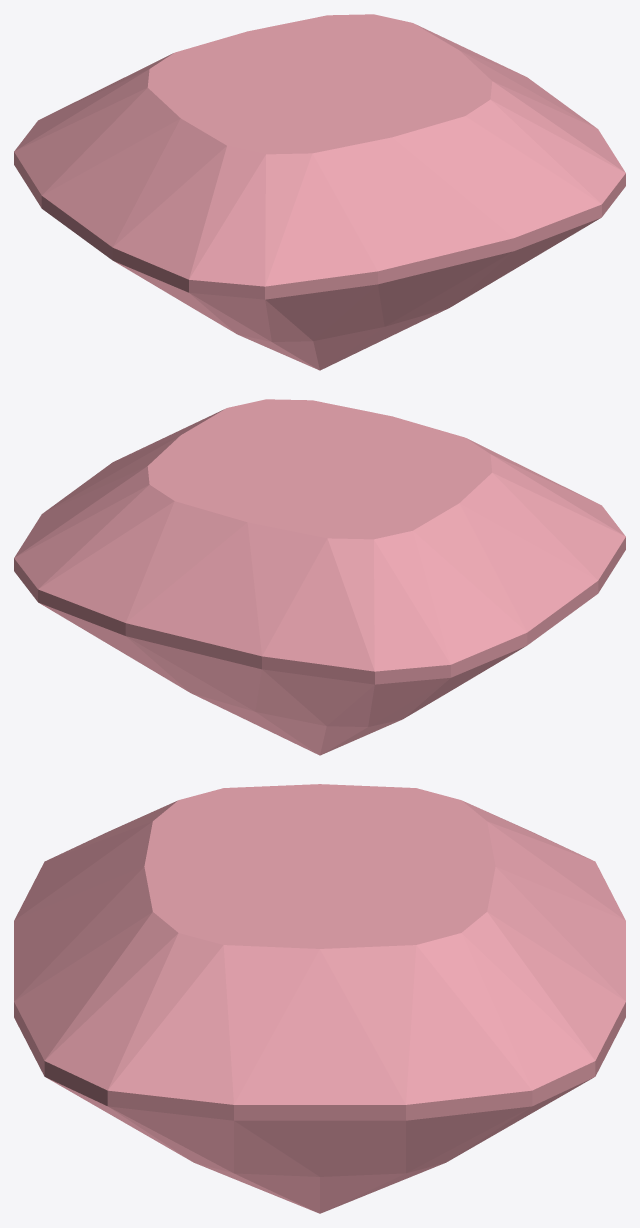
Rendered from spinel.glb.
3 views of the same model, one above another, from view 1: azimuth 30°, elevation 25°; view 2: azimuth 150°, elevation 25°; view 3: azimuth 270°, elevation 25° (orthographic). The views are drawn at different scales.
Parts seen in each view (by area): view 1: spinel; view 2: spinel; view 3: spinel.
Boxes of the visible parts, x1,y1,x2,y2 form: spinel: (14, 14, 625, 370); spinel: (14, 399, 625, 755); spinel: (14, 784, 625, 1213).
Bounding box in the file's own units: 0.25 × 0.1409 × 0.225.
